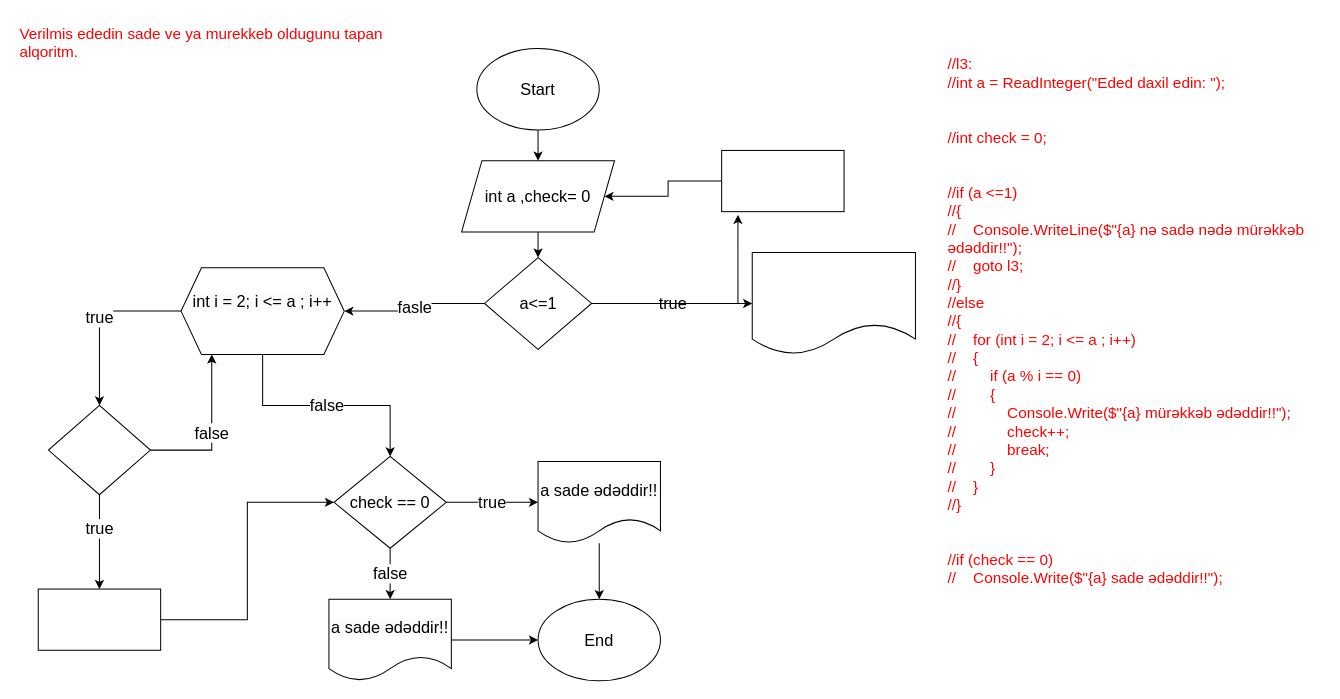
Image size: 1340x699. Some labels were removed from this diagram. Here are the shapes that lost their labels. From the top down, the box of each, then its label:
(721, 149, 844, 212): goto l3;
(751, 251, 915, 354): $"{a} nə sadə nədə mürəkkəb ədəddir!!"
(47, 404, 150, 495): a % i == 0
(37, 588, 161, 650): check++; break;
